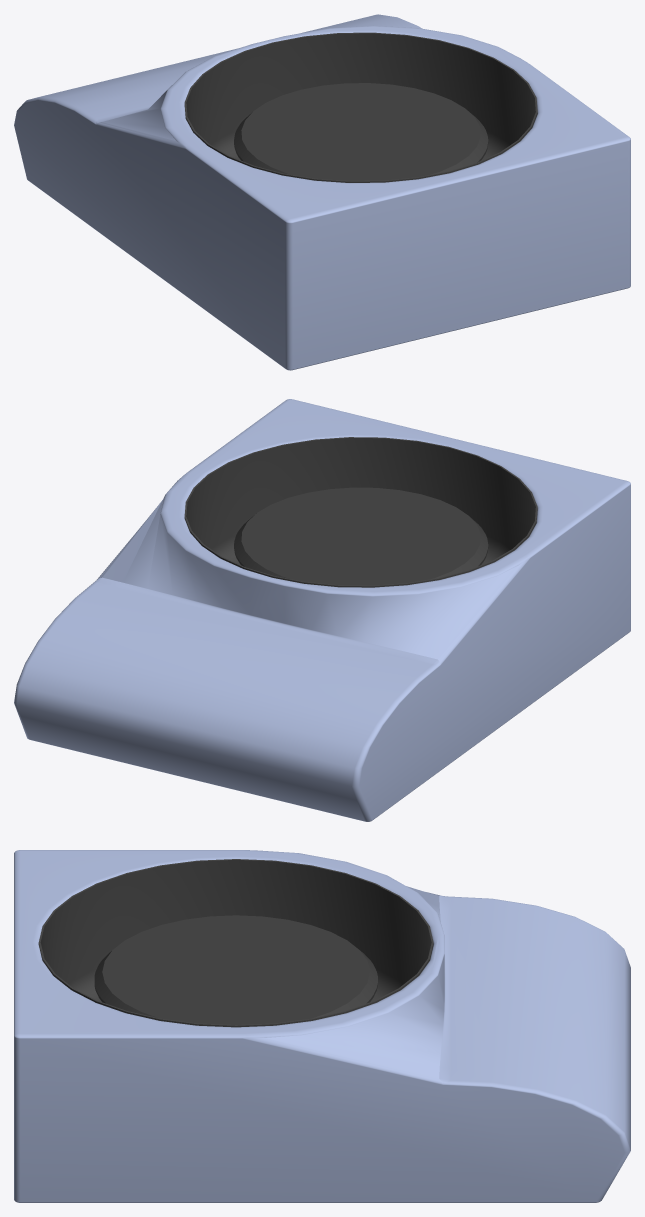
File: centrifuge.glb
The picture shows the model from 3 angles, top to bottom: view 1: azimuth 30°, elevation 25°; view 2: azimuth 150°, elevation 25°; view 3: azimuth 270°, elevation 25°; orthographic projection. The views are drawn at different scales.
Parts seen in each view (by area): view 1: Body, Steel-Cover, Roter; view 2: Body, Steel-Cover, Roter; view 3: Body, Steel-Cover, Roter.
Boxes of the visible parts, box(x1,y1,x2,y2) form: Body: box(14, 14, 630, 370); Steel-Cover: box(184, 32, 537, 182); Roter: box(234, 83, 488, 180); Body: box(14, 399, 630, 821); Steel-Cover: box(184, 437, 537, 587); Roter: box(234, 487, 488, 585); Body: box(14, 850, 630, 1202); Steel-Cover: box(38, 859, 433, 1027); Roter: box(94, 915, 377, 1024).
Bounding box in the file's own units: 1.43 × 0.6139 × 1.99.
